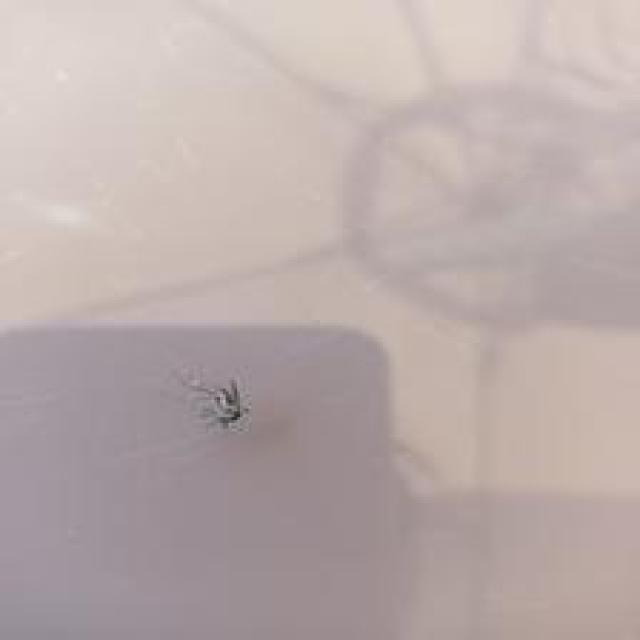Aedes albopictus: (180, 370, 251, 433)
